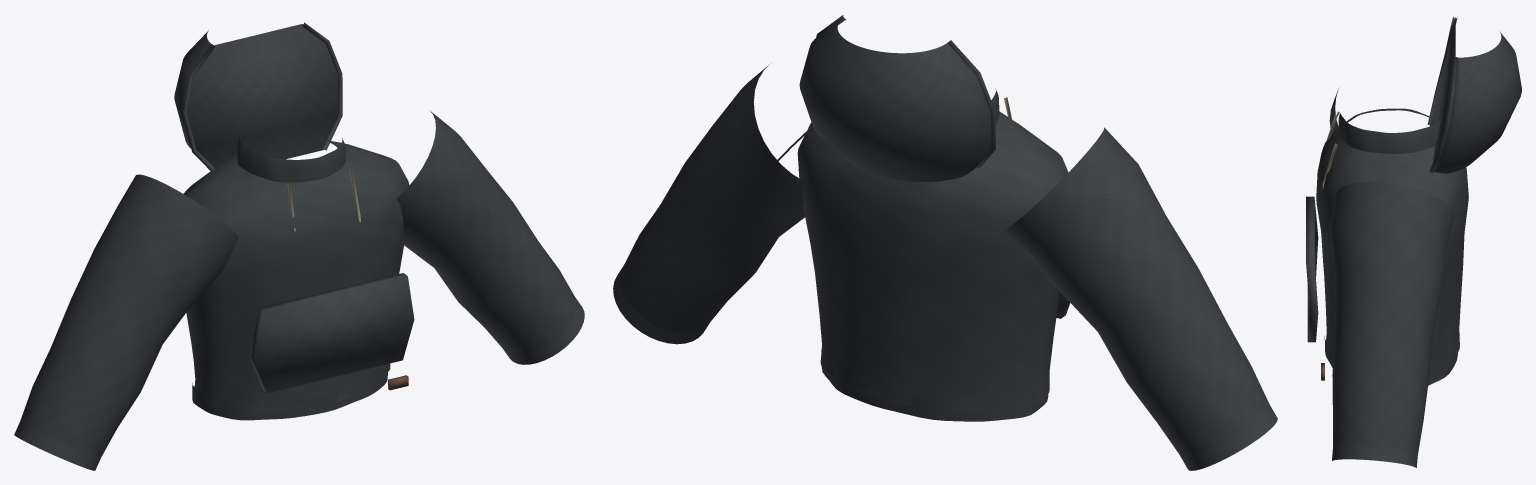
File: PZ_Survivor_01_Hoodie_Charcoal.glb
The picture shows the model from 3 angles, left to right: view 1: azimuth 30°, elevation 25°; view 2: azimuth 150°, elevation 25°; view 3: azimuth 270°, elevation 25°; orthographic projection. The views are drawn at different scales.
Visible parts, largest first — view 1: Torso_Cloth_Shell, Sleeve_L_Fabric, Sleeve_R_Fabric, Hood_Folded_Shell, Kangaroo_Pouch, Neck_Collar_Roll, Hem_Reinforced_Rib, Sleeve_L_Ribbed_Cuff, Sleeve_R_Ribbed_Cuff, Hood_Right_Front_Rim, Hood_Reinforced_Front_Rim; view 2: Torso_Cloth_Shell, Sleeve_L_Fabric, Sleeve_R_Fabric, Hood_Folded_Shell, Hem_Reinforced_Rib, Sleeve_L_Ribbed_Cuff, Sleeve_R_Ribbed_Cuff, Hood_Right_Front_Rim; view 3: Sleeve_R_Fabric, Torso_Cloth_Shell, Hood_Folded_Shell, Neck_Collar_Roll, Kangaroo_Pouch, Sleeve_R_Ribbed_Cuff, Hood_Reinforced_Front_Rim, Hem_Reinforced_Rib, Hood_Right_Front_Rim.
Boxes of the visible parts, x1=… form: Torso_Cloth_Shell: x1=183, y1=138, x2=409, y2=412; Sleeve_L_Fabric: x1=20, y1=174, x2=238, y2=457; Sleeve_R_Fabric: x1=396, y1=110, x2=577, y2=354; Hood_Folded_Shell: x1=174, y1=24, x2=338, y2=168; Kangaroo_Pouch: x1=249, y1=273, x2=414, y2=393; Neck_Collar_Roll: x1=237, y1=134, x2=345, y2=182; Hem_Reinforced_Rib: x1=192, y1=364, x2=388, y2=420; Sleeve_L_Ribbed_Cuff: x1=14, y1=422, x2=100, y2=470; Sleeve_R_Ribbed_Cuff: x1=503, y1=298, x2=584, y2=364; Hood_Right_Front_Rim: x1=182, y1=44, x2=214, y2=171; Hood_Reinforced_Front_Rim: x1=301, y1=22, x2=342, y2=150; Torso_Cloth_Shell: x1=797, y1=111, x2=1068, y2=413; Sleeve_L_Fabric: x1=1004, y1=127, x2=1269, y2=456; Sleeve_R_Fabric: x1=620, y1=62, x2=806, y2=333; Hood_Folded_Shell: x1=799, y1=19, x2=991, y2=181; Hem_Reinforced_Rib: x1=821, y1=350, x2=1048, y2=421; Sleeve_L_Ribbed_Cuff: x1=1180, y1=404, x2=1277, y2=470; Sleeve_R_Ribbed_Cuff: x1=613, y1=267, x2=709, y2=344; Hood_Right_Front_Rim: x1=948, y1=40, x2=995, y2=167; Sleeve_R_Fabric: x1=1329, y1=182, x2=1453, y2=454; Torso_Cloth_Shell: x1=1316, y1=108, x2=1468, y2=379; Hood_Folded_Shell: x1=1429, y1=17, x2=1521, y2=173; Neck_Collar_Roll: x1=1338, y1=113, x2=1440, y2=153; Kangaroo_Pouch: x1=1306, y1=196, x2=1318, y2=342; Sleeve_R_Ribbed_Cuff: x1=1332, y1=445, x2=1417, y2=467; Hood_Reinforced_Front_Rim: x1=1429, y1=57, x2=1457, y2=173; Hem_Reinforced_Rib: x1=1324, y1=336, x2=1457, y2=385; Hood_Right_Front_Rim: x1=1427, y1=16, x2=1457, y2=124.
Size of the model in its own units: 1.32 by 0.7898 by 0.4607.
3 materials, 3 textured.
